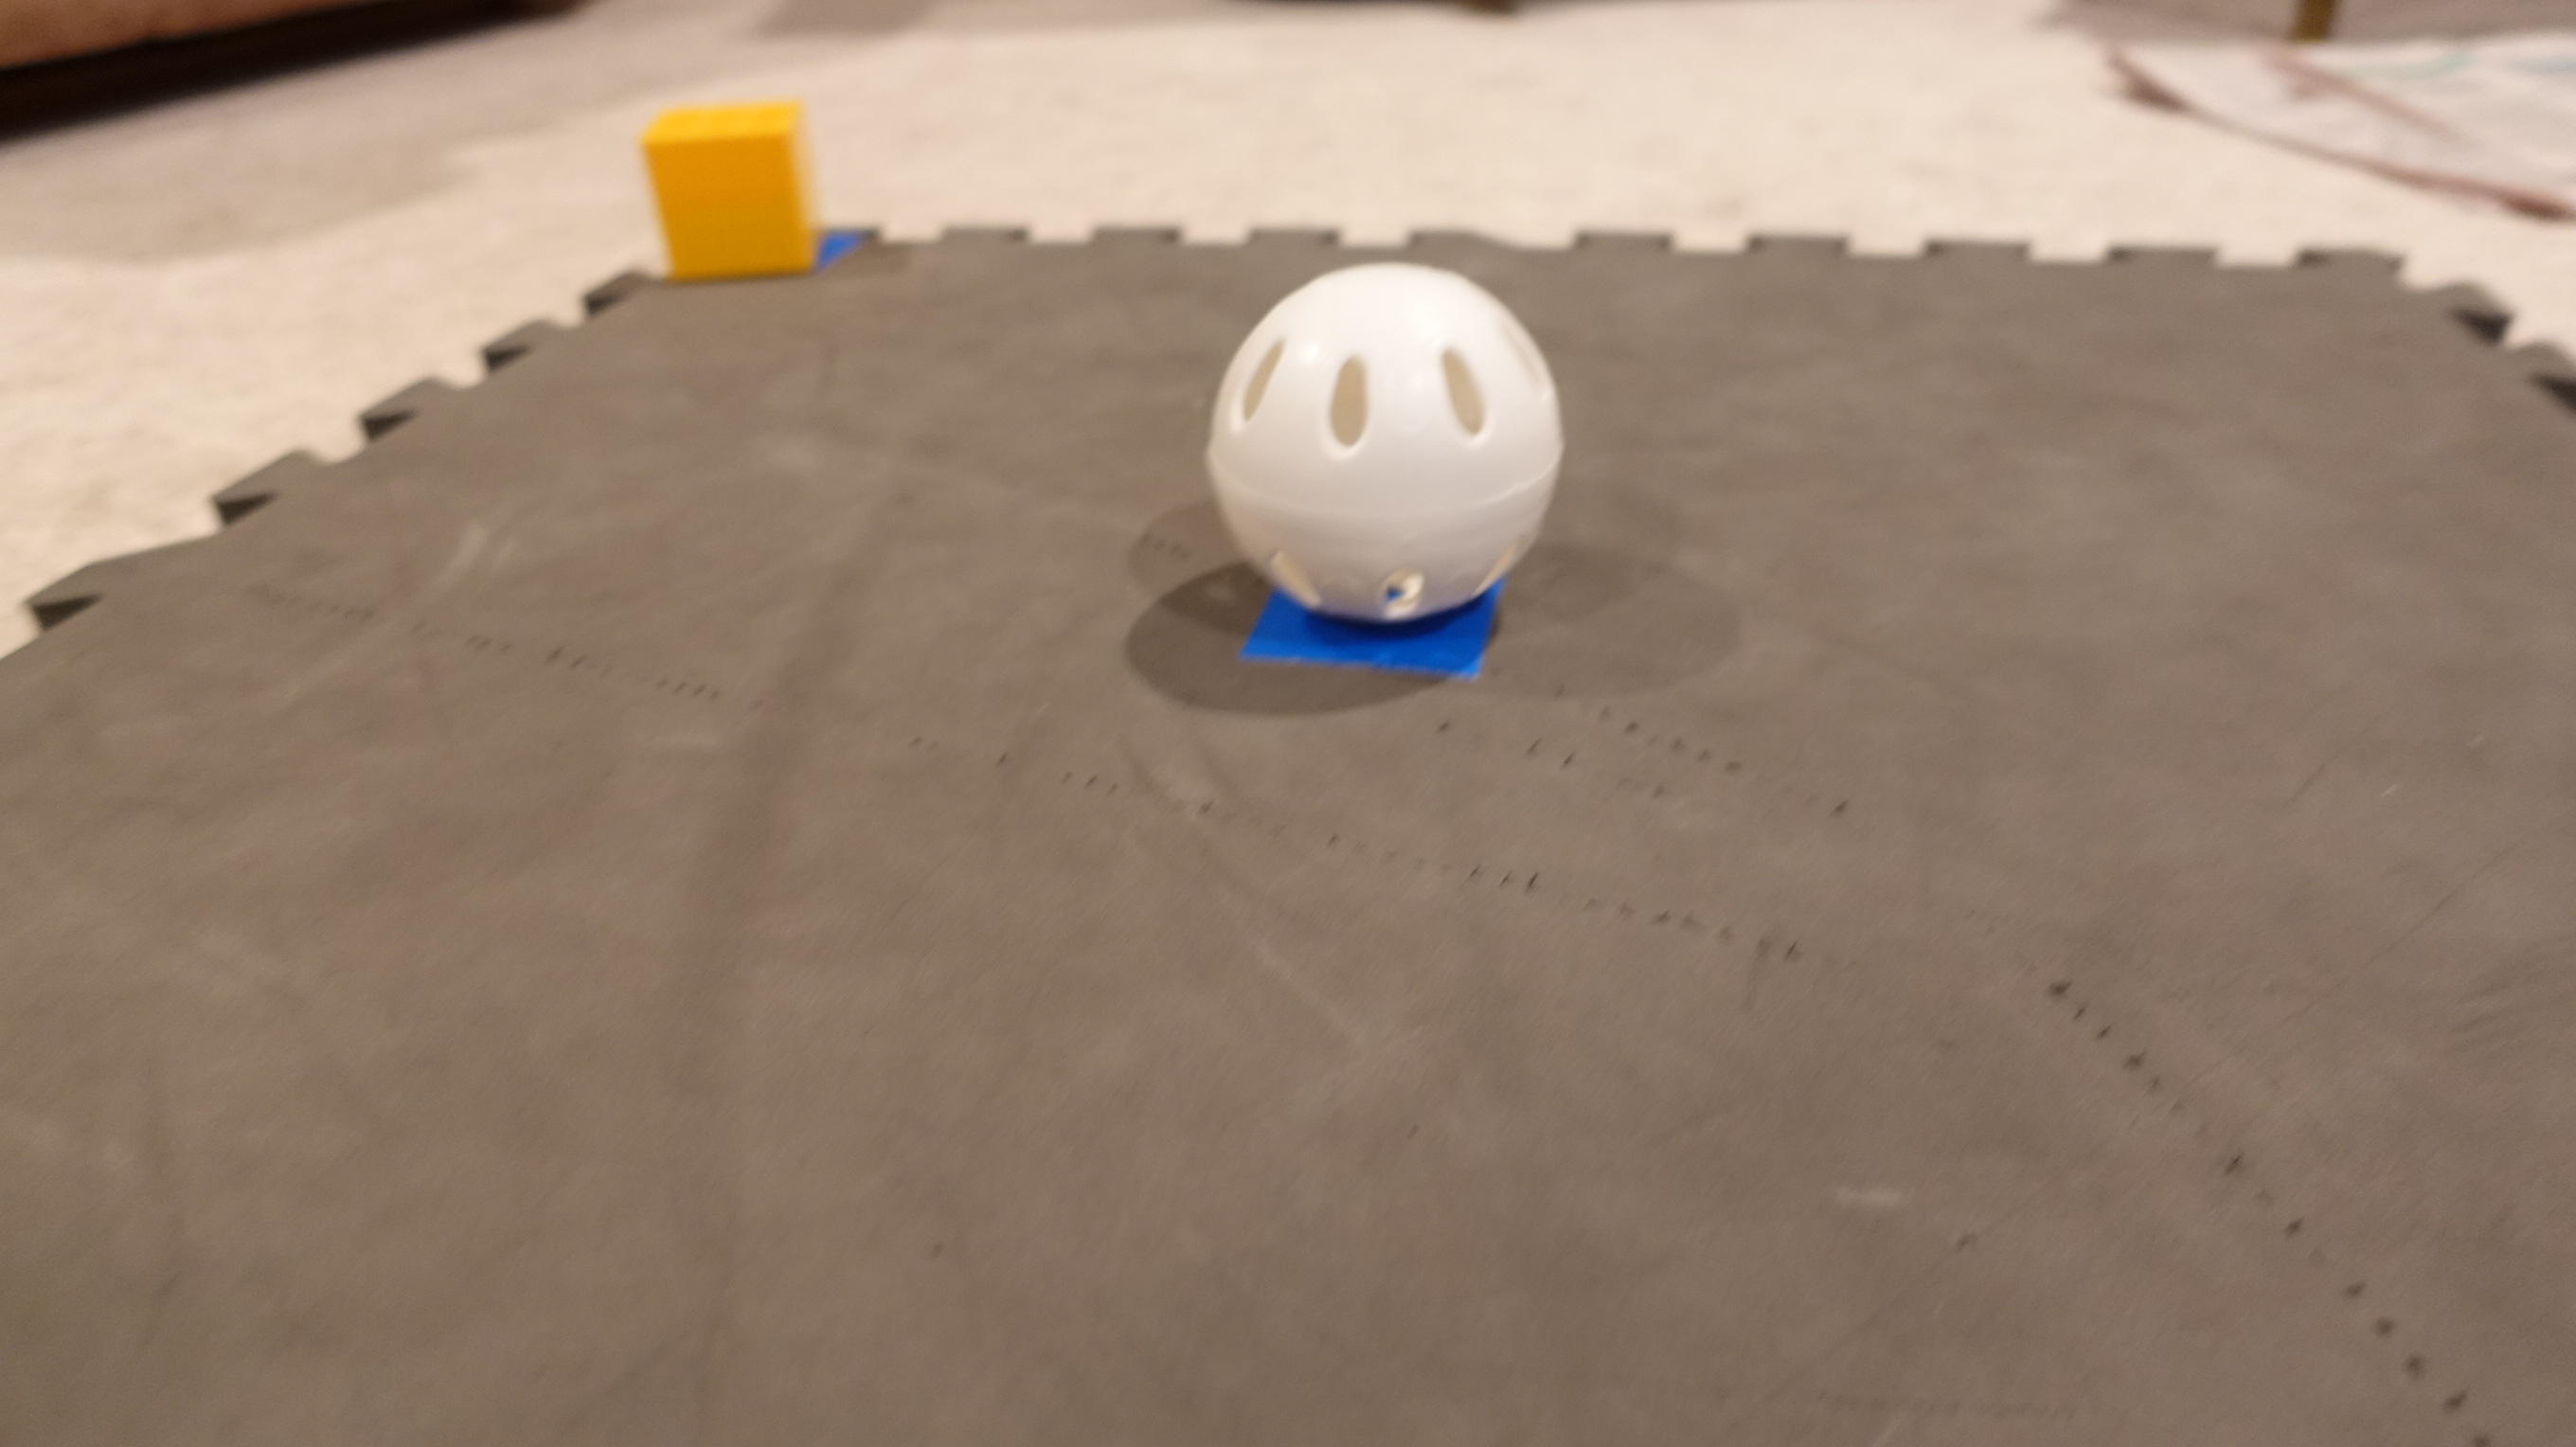gold: (633, 97, 837, 283)
silver: (1198, 256, 1573, 626)
